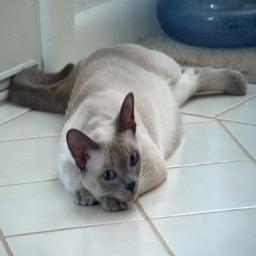catnose: (124, 179, 136, 194)
